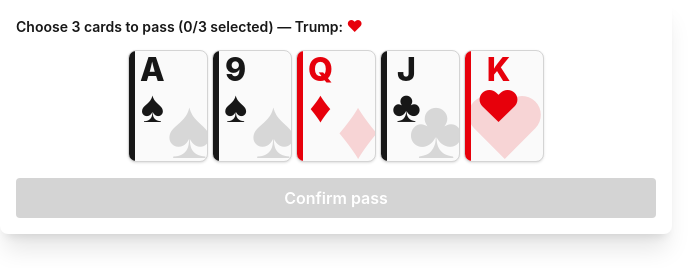
Test: PassSelector › toggles a card back off when clicked again
Click the button named "A of S". click: {"x": 168, "y": 106}
box: [128,50,208,162]
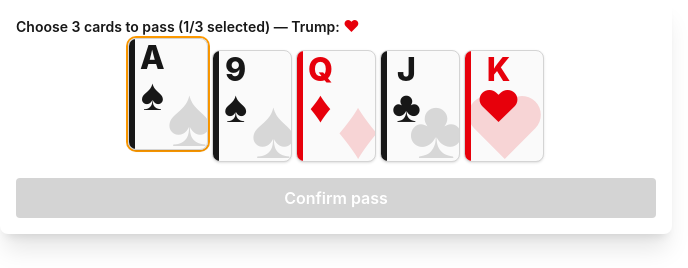
Click the button named "A of S". click: {"x": 168, "y": 94}
box: [128,38,208,150]
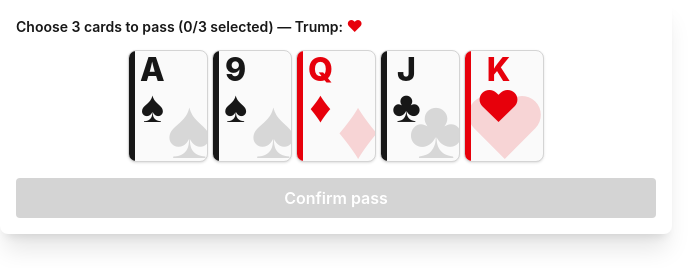
Result: the heading "Choose 3 cards to pass (0/3 selected) — Trump: ♥" is shown at [16,16,363,36]
